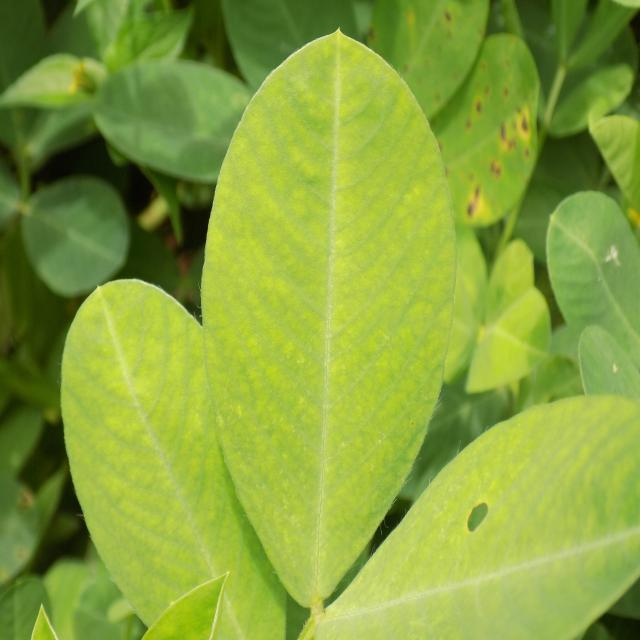Ground nut_healthy: (199, 25, 454, 613), (62, 278, 297, 640)
